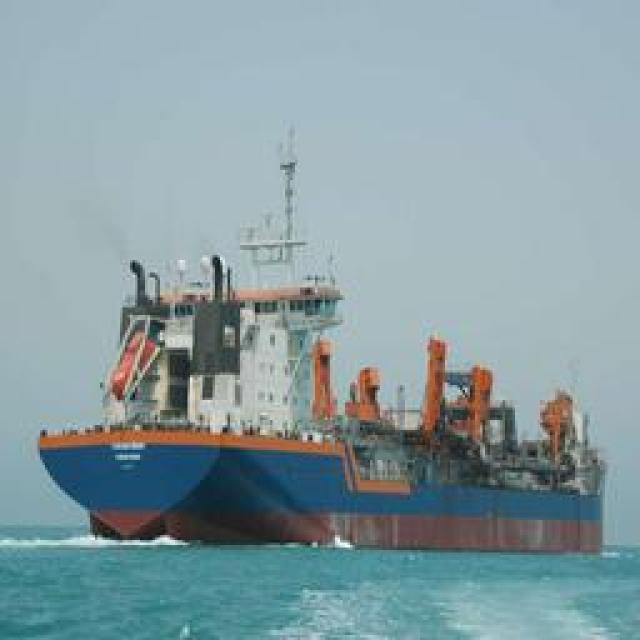CIV_Ship: (45, 210, 593, 545)
